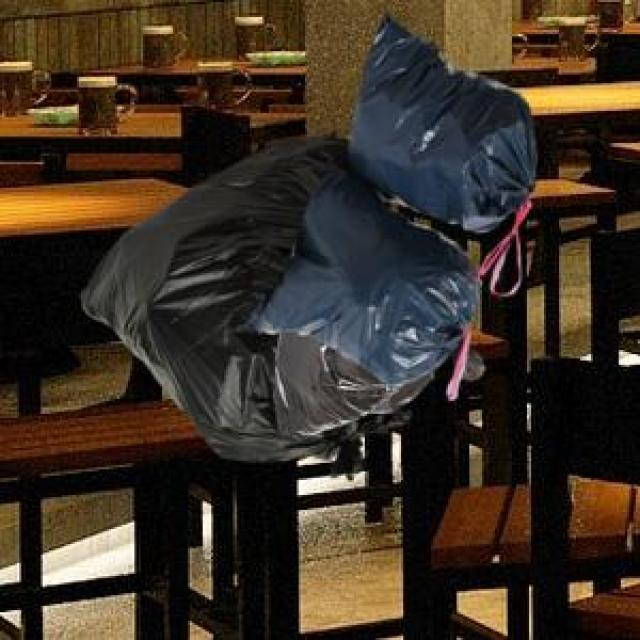Vinyl: (79, 135, 396, 446), (272, 164, 475, 394), (347, 22, 540, 230)
